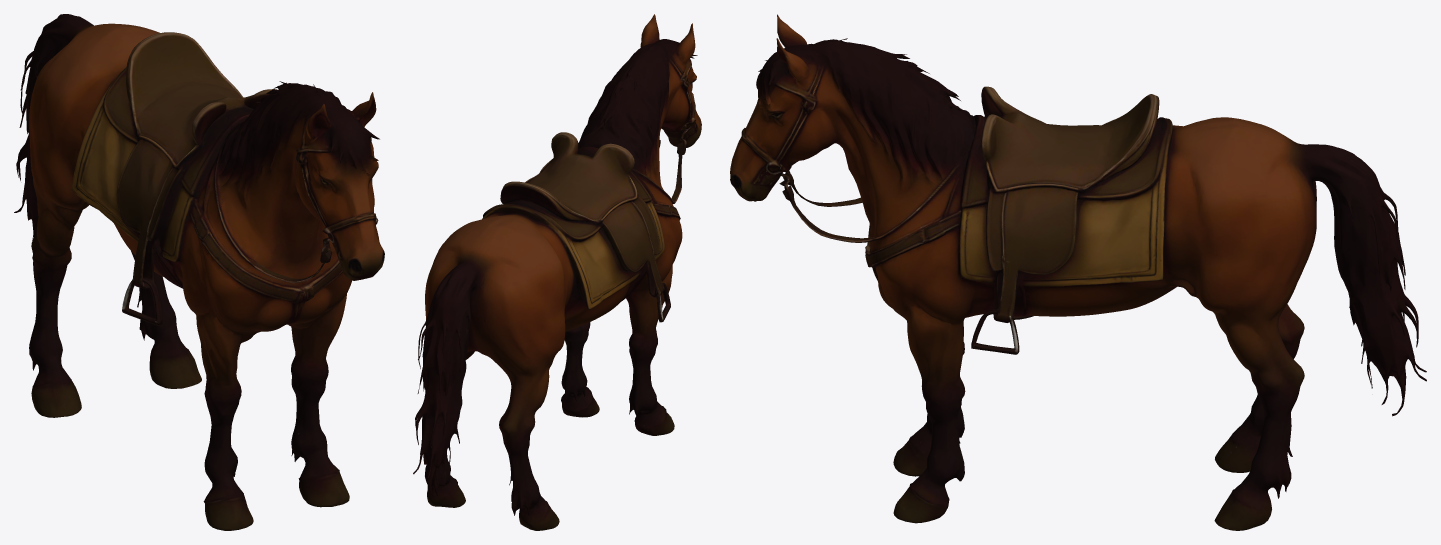
The model's file is horsebrown.glb.
3 views of the same model, side by side, from view 1: azimuth 30°, elevation 25°; view 2: azimuth 150°, elevation 25°; view 3: azimuth 270°, elevation 25° (orthographic). The views are drawn at different scales.
Parts seen in each view (by area): view 1: tripo_node_d0d928a0-0dd8-4fc0-9793-5a48ff743288; view 2: tripo_node_d0d928a0-0dd8-4fc0-9793-5a48ff743288; view 3: tripo_node_d0d928a0-0dd8-4fc0-9793-5a48ff743288.
Boxes of the visible parts, x1,y1,x2,y2 form: tripo_node_d0d928a0-0dd8-4fc0-9793-5a48ff743288: [14, 14, 384, 530]; tripo_node_d0d928a0-0dd8-4fc0-9793-5a48ff743288: [413, 14, 701, 530]; tripo_node_d0d928a0-0dd8-4fc0-9793-5a48ff743288: [730, 14, 1426, 530].
Bounding box in the file's own units: 0.3528 × 0.7391 × 1.
Materials: 1 (1 with a texture image).
